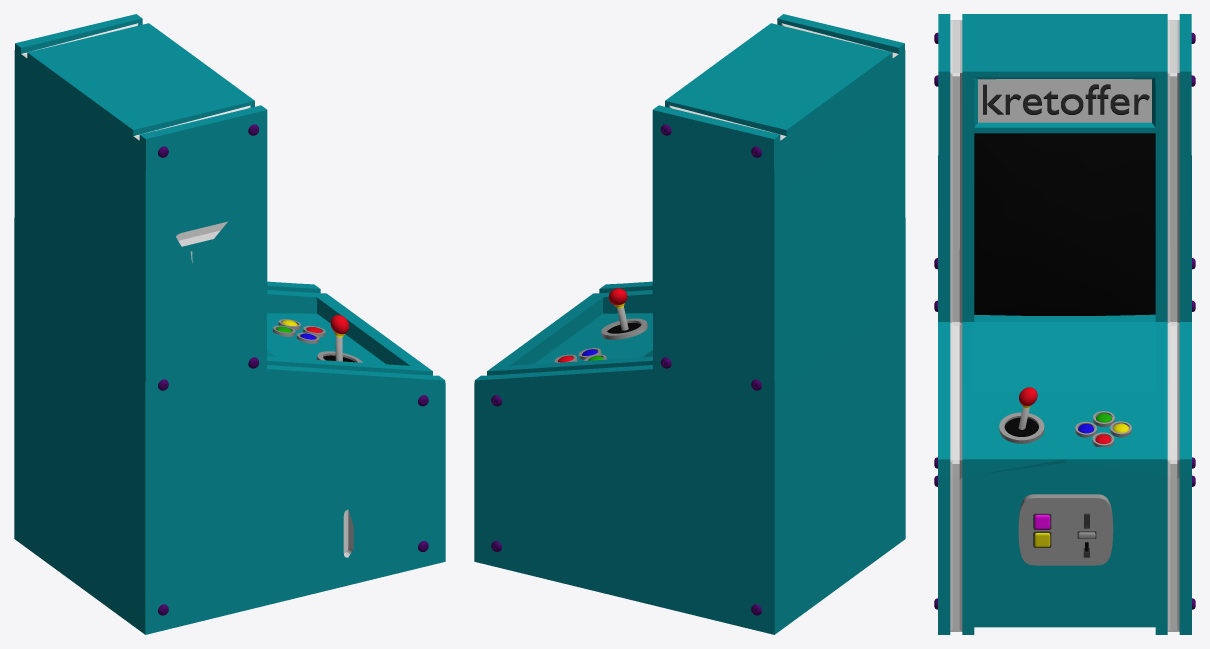
The model's file is Arcade game.fbx.
3 renders of one model, left to right at view 1: azimuth 30°, elevation 25°; view 2: azimuth 150°, elevation 25°; view 3: azimuth 270°, elevation 25°, orthographic. The views are drawn at different scales.
Visible parts, largest first — view 1: Cube; view 2: Cube, lever; view 3: Cube, screen, Plane.005, kretoffer, lever, Sphere.
Part boxes in pixels (x1,y1,x2,y2): Cube: (14, 14, 445, 634); Cube: (474, 14, 905, 634); lever: (601, 318, 647, 339); Cube: (938, 14, 1191, 634); screen: (974, 133, 1155, 315); Plane.005: (1018, 494, 1113, 565); kretoffer: (983, 84, 1149, 114); lever: (999, 412, 1044, 443); Sphere: (1018, 387, 1037, 429).
Size of the model in its own units: 373 by 584 by 288.
